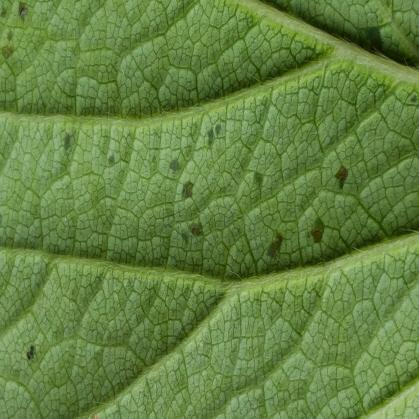Angular Leafspot: (0, 0, 365, 268), (14, 332, 48, 374)
